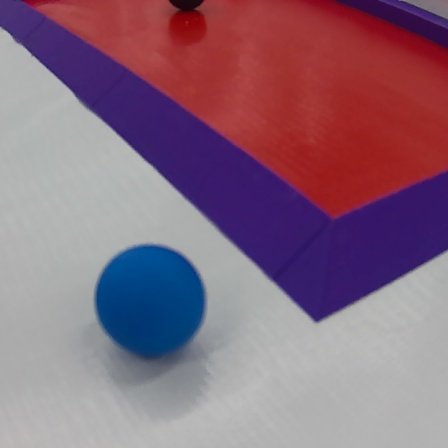blue: (88, 239, 210, 361)
red_aim: (0, 0, 446, 329)
